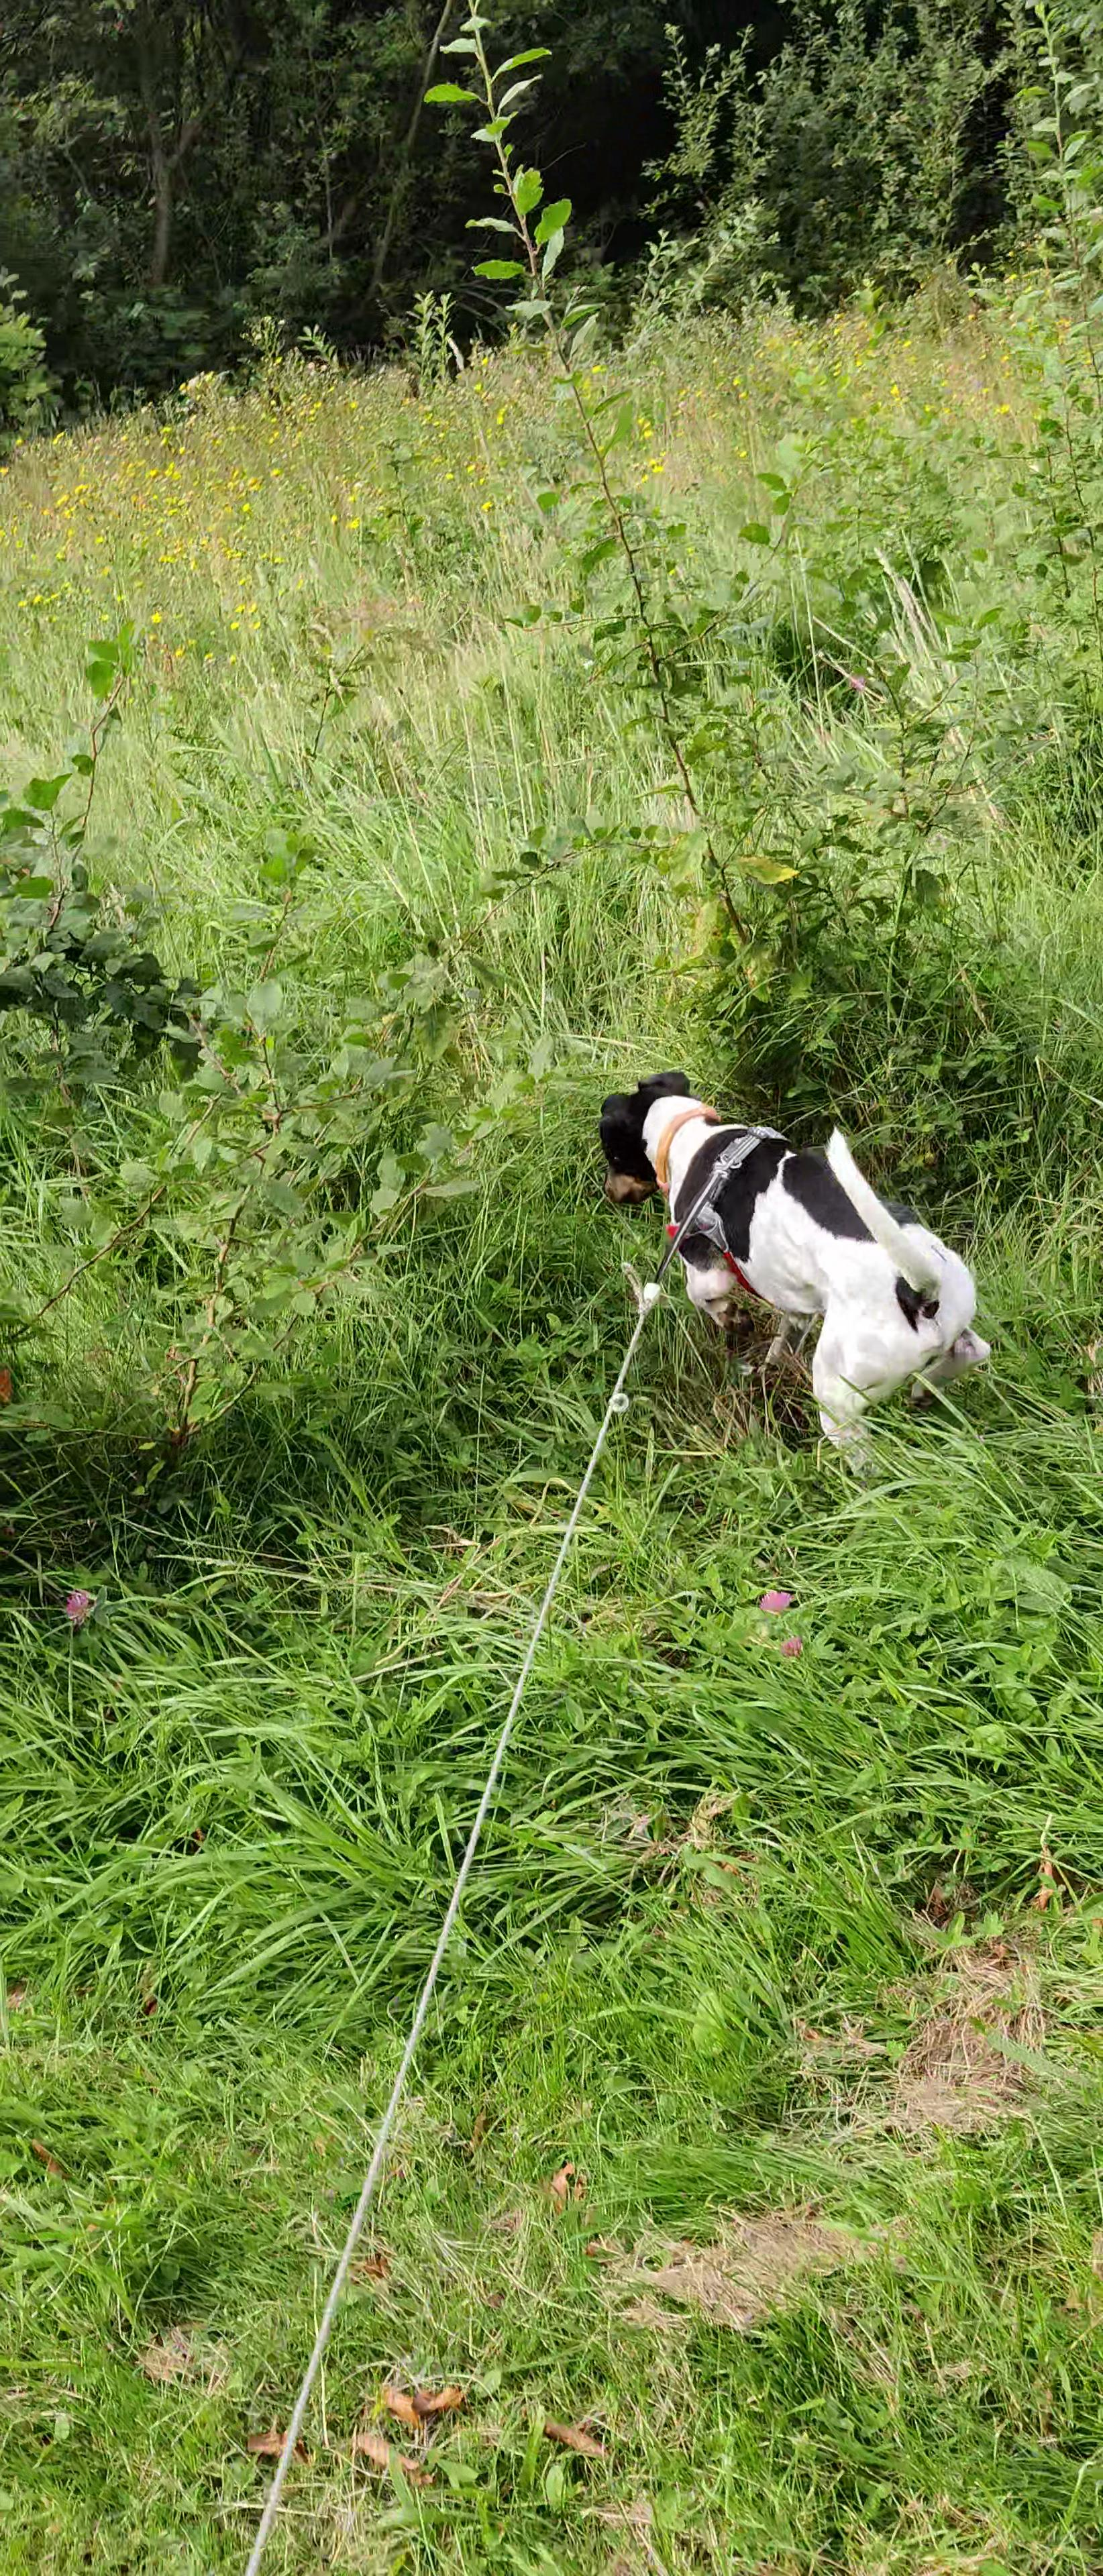Dog: (580, 1040, 1004, 1482)
